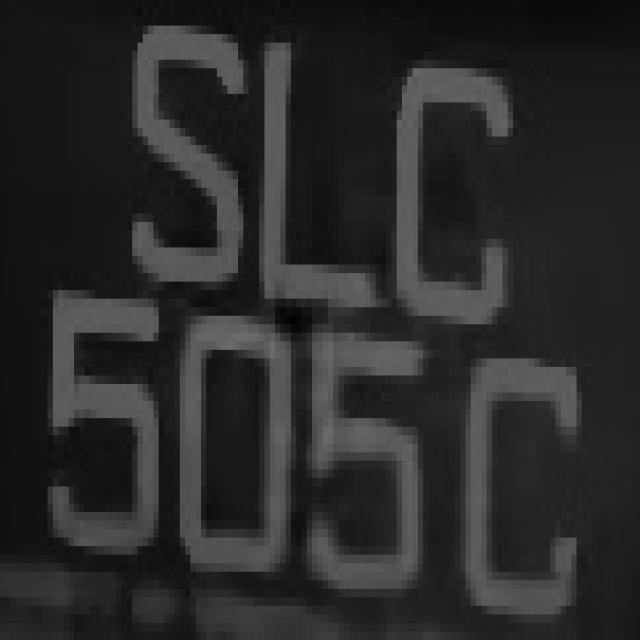0: (169, 308, 307, 598)
5: (37, 264, 164, 598), (306, 290, 434, 606)
C: (386, 34, 524, 341), (457, 346, 586, 618), (4, 4, 5, 8)
L: (248, 25, 392, 332)
S: (111, 0, 259, 307)
